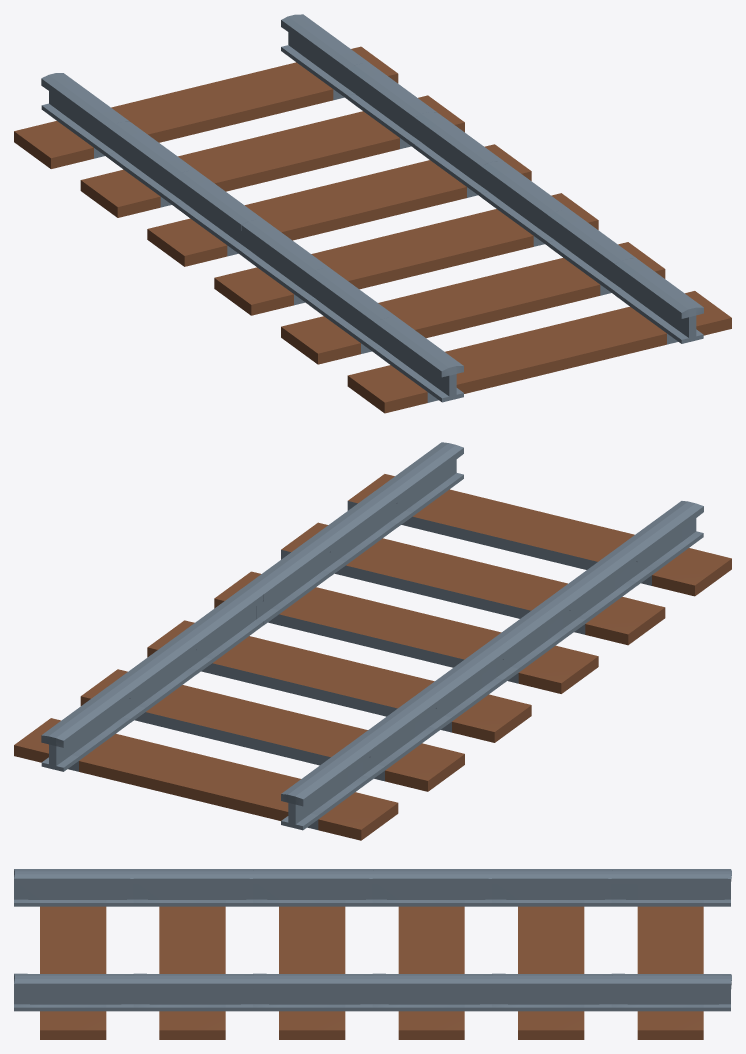
Rendered from trilhoReto.glb.
3 renders of one model, top to bottom at view 1: azimuth 30°, elevation 25°; view 2: azimuth 150°, elevation 25°; view 3: azimuth 270°, elevation 25°, orthographic. The views are drawn at different scales.
Parts seen in each view (by area): view 1: trilho_reto.001; view 2: trilho_reto.001; view 3: trilho_reto.001.
Boxes of the visible parts, <box> form: trilho_reto.001: <box>14,14,731,413</box>; trilho_reto.001: <box>14,442,731,840</box>; trilho_reto.001: <box>14,869,731,1039</box>.
Size of the model in its own units: 0.5 by 0.06 by 1.
